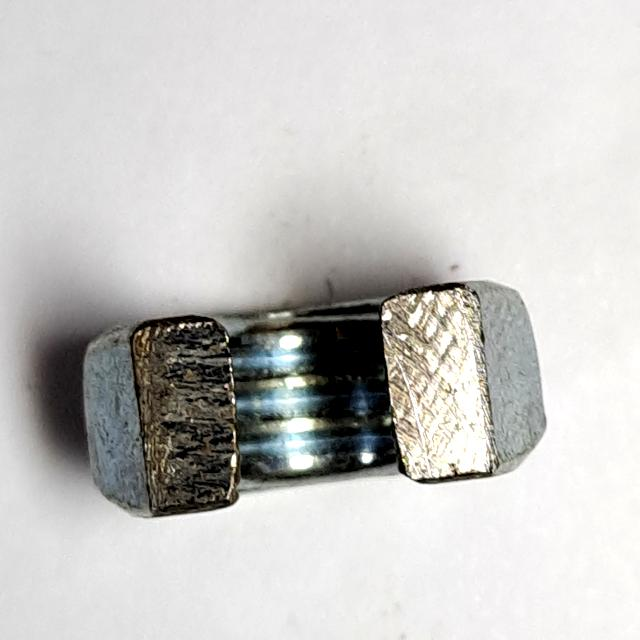Side-Fracture: (70, 271, 555, 537)
